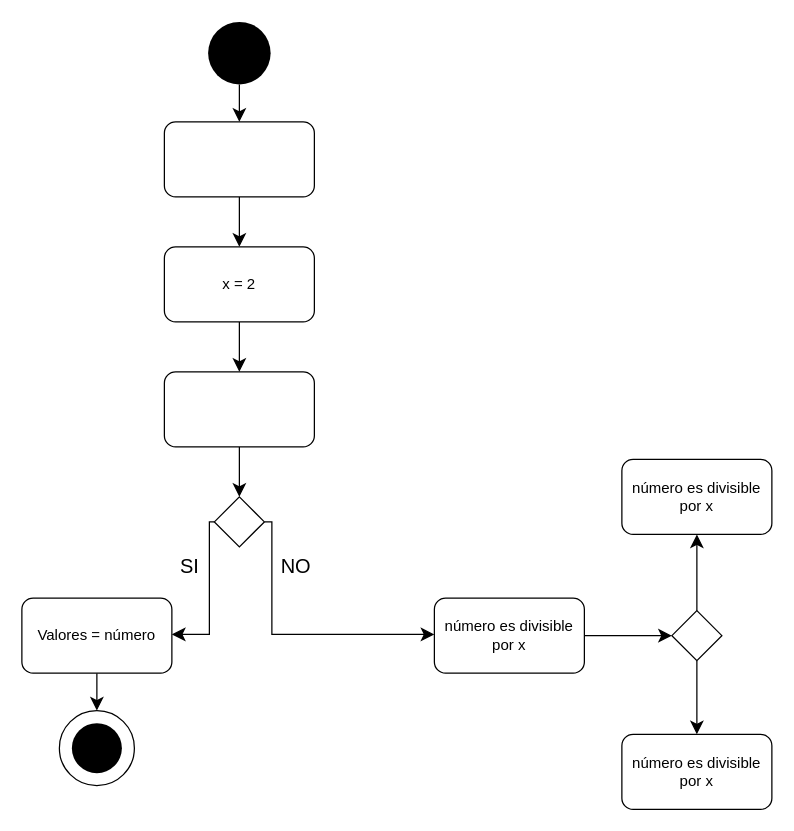
Some shapes in this 794 by 831 pixel diagram are drawn without their labels. Each missing label, with the box of its shape:
Ingresar número: (163, 121, 314, 197)
x <= número: (163, 371, 314, 447)
